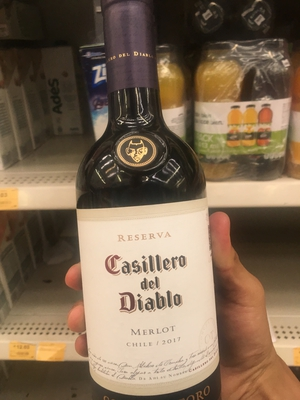casillero del diablo merlot: (68, 9, 237, 400)
